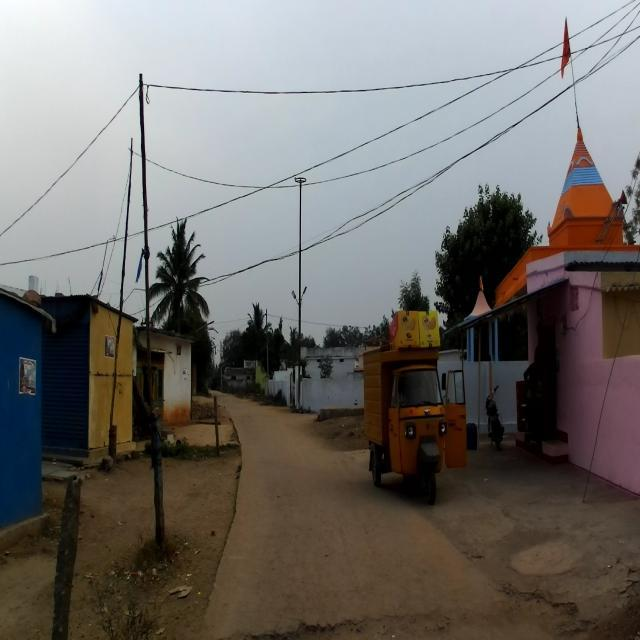Pothole: (211, 592, 499, 640), (524, 549, 586, 640)
